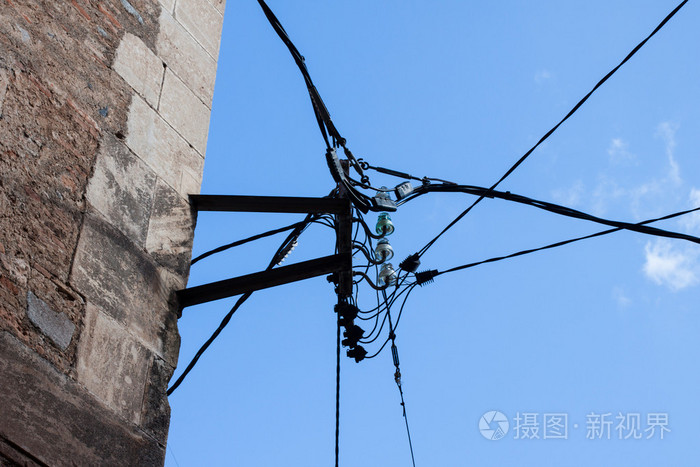insulator: (369, 217, 400, 284)
